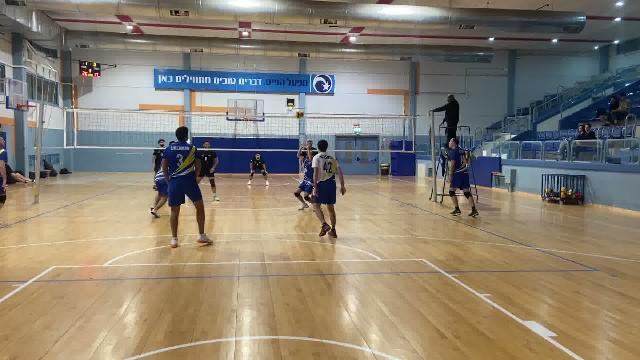ball: (293, 108, 305, 121)
